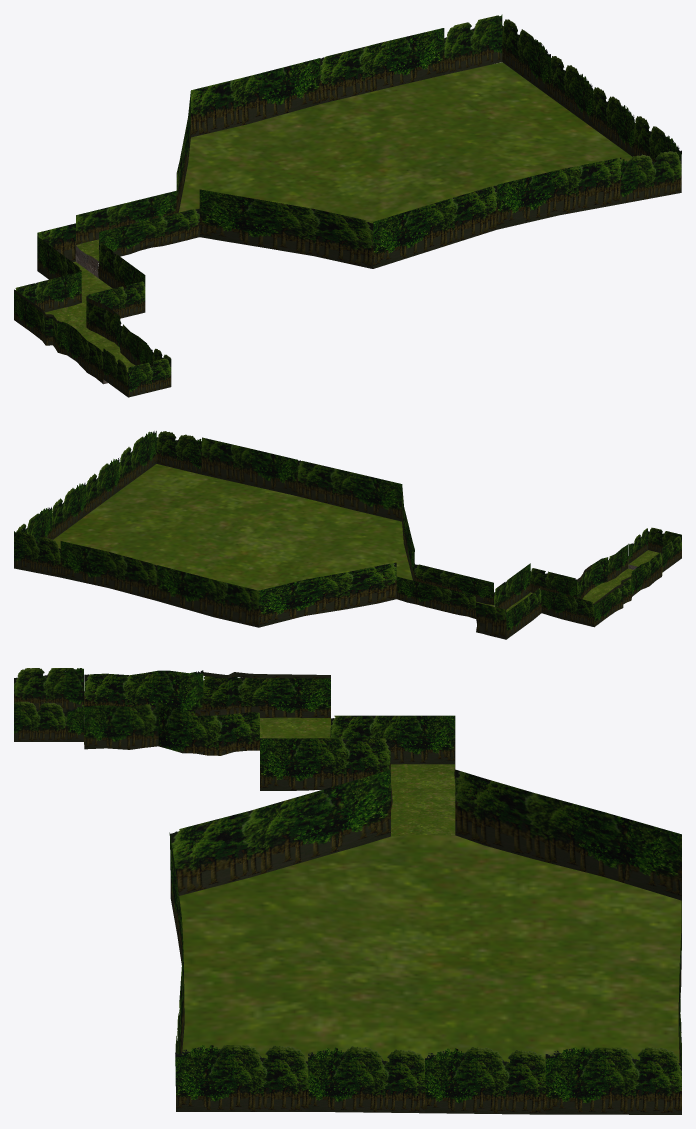
File: ForestTest.fbx
3 renders of one model, top to bottom at view 1: azimuth 30°, elevation 25°; view 2: azimuth 150°, elevation 25°; view 3: azimuth 270°, elevation 25°, orthographic. The views are drawn at different scales.
Parts seen in each view (by area): view 1: Plane; view 2: Plane; view 3: Plane.
Part boxes in pixels (x1,y1,x2,y2): Plane: (14,14,681,397); Plane: (14,431,681,639); Plane: (14,668,681,1114).
Size of the model in its own units: 57190 by 6366 by 38265.
